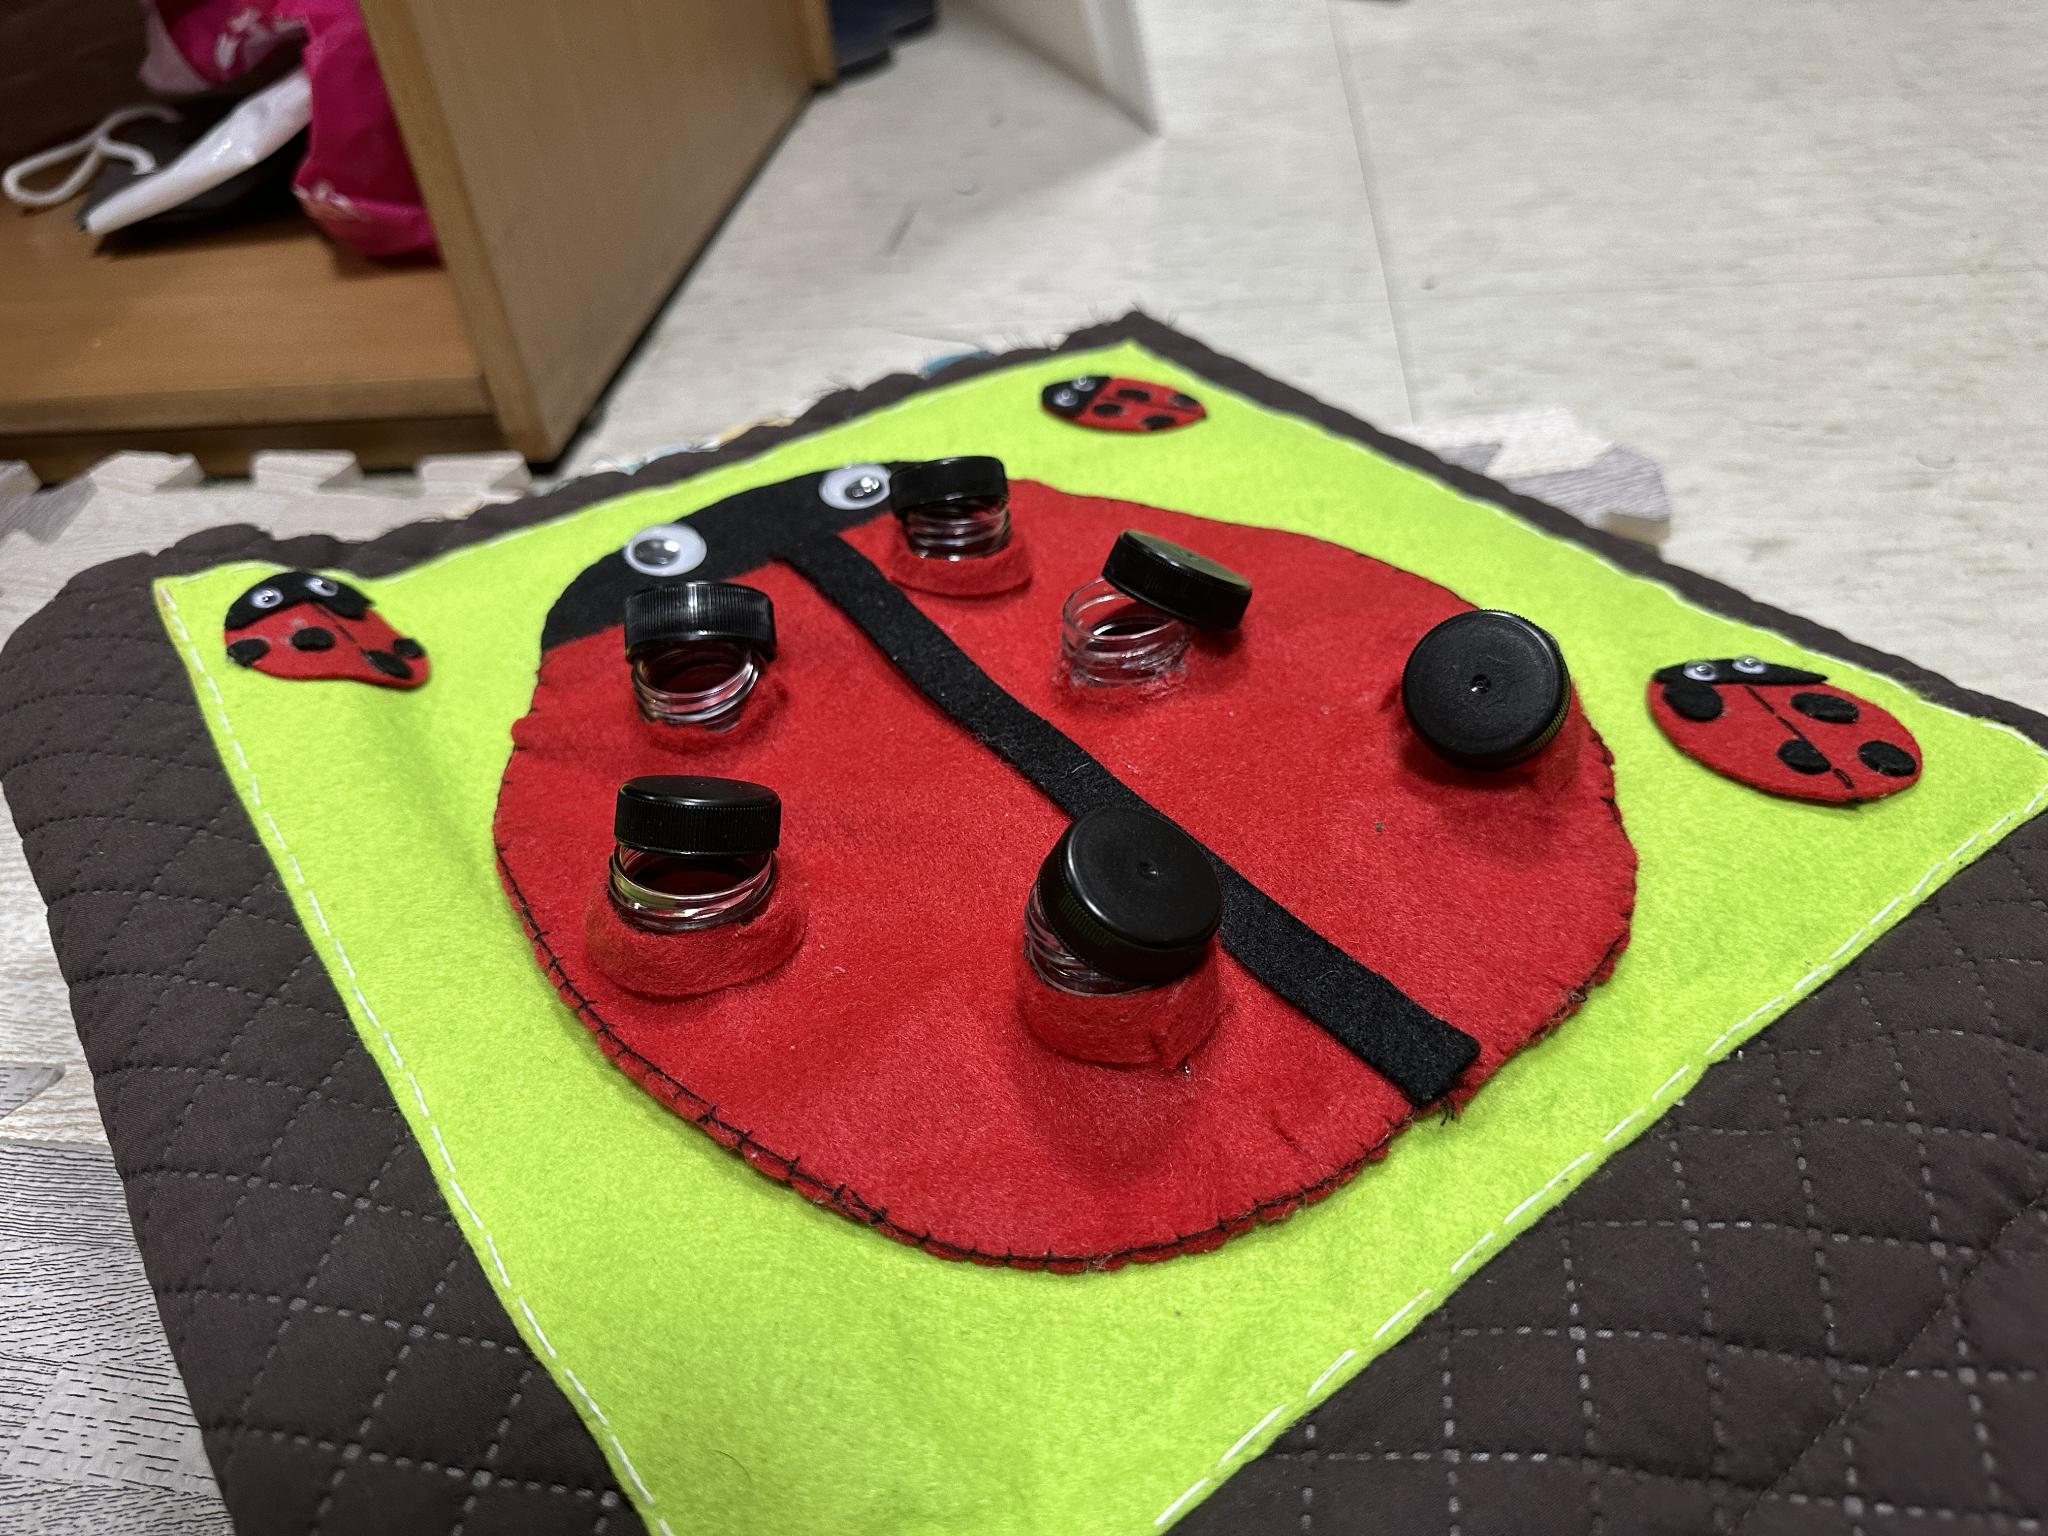cap_ng: (985, 781, 1261, 1092), (569, 762, 829, 1028), (1374, 581, 1606, 834), (608, 552, 805, 765), (1034, 529, 1269, 694), (858, 442, 1048, 618)
